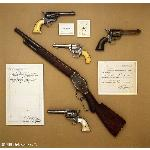Pistol: (95, 27, 141, 50), (46, 107, 90, 131), (32, 9, 76, 33), (52, 42, 92, 64)
